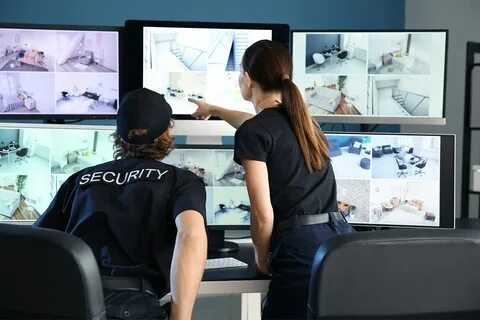awake: (30, 87, 210, 320), (232, 39, 358, 319)
